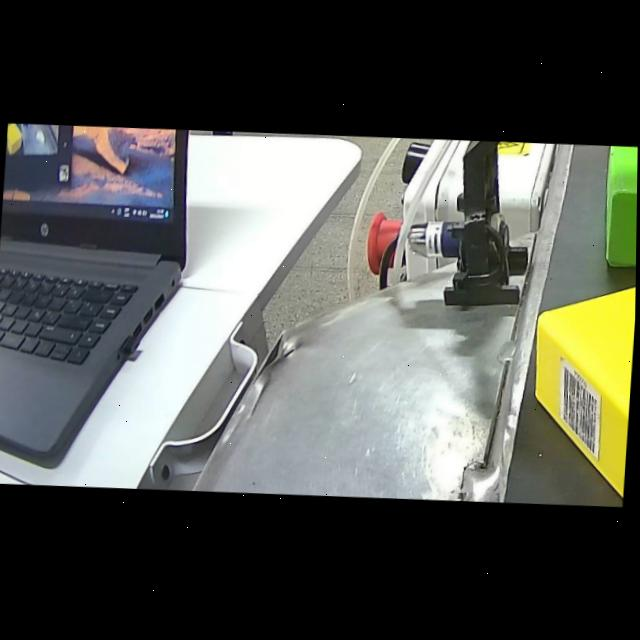greenBox: (595, 148, 638, 282)
yellowBox: (522, 268, 637, 510)
